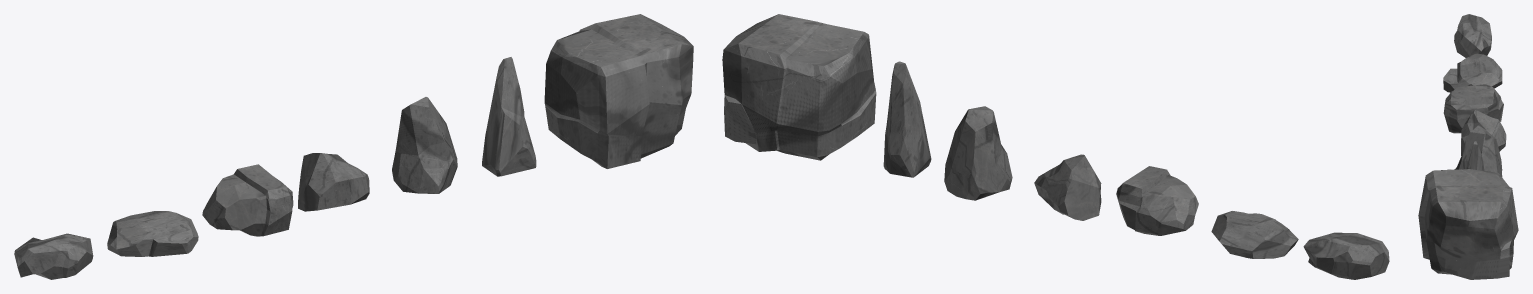
File: Pedras 1.fbx
The picture shows the model from 3 angles, left to right: view 1: azimuth 30°, elevation 25°; view 2: azimuth 150°, elevation 25°; view 3: azimuth 270°, elevation 25°; orthographic projection. The views are drawn at different scales.
Visible parts, largest first — view 1: Pedra_Obstaculo, Pedra.001, Big_Rock.001, Pedra_pontuda, Pedra, Pedra.002, Big_Rock.002; view 2: Pedra_Obstaculo, Pedra.001, Big_Rock.001, Pedra_pontuda, Big_Rock.002, Pedra.002, Pedra; view 3: Pedra_Obstaculo, Big_Rock.001, Pedra, Big_Rock.002, Pedra.001, Pedra.002, Pedra_pontuda.
Boxes of the visible parts, x1=… form: Pedra_Obstaculo: x1=544, y1=14, x2=693, y2=168; Pedra.001: x1=392, y1=97, x2=457, y2=193; Big_Rock.001: x1=202, y1=164, x2=293, y2=236; Pedra_pontuda: x1=482, y1=57, x2=536, y2=176; Pedra: x1=107, y1=211, x2=198, y2=256; Pedra.002: x1=298, y1=153, x2=369, y2=211; Big_Rock.002: x1=14, y1=233, x2=93, y2=279; Pedra_Obstaculo: x1=722, y1=14, x2=876, y2=160; Pedra.001: x1=944, y1=106, x2=1012, y2=200; Big_Rock.001: x1=1116, y1=166, x2=1198, y2=235; Pedra_pontuda: x1=883, y1=61, x2=931, y2=177; Big_Rock.002: x1=1303, y1=232, x2=1389, y2=279; Pedra.002: x1=1034, y1=154, x2=1101, y2=220; Pedra: x1=1211, y1=211, x2=1298, y2=258; Pedra_Obstaculo: x1=1418, y1=168, x2=1518, y2=279; Big_Rock.001: x1=1443, y1=84, x2=1503, y2=133; Pedra: x1=1443, y1=53, x2=1502, y2=92; Big_Rock.002: x1=1454, y1=14, x2=1491, y2=57; Pedra.001: x1=1455, y1=125, x2=1502, y2=177; Pedra.002: x1=1461, y1=110, x2=1506, y2=155; Pedra_pontuda: x1=1466, y1=141, x2=1484, y2=170.
Bounding box in the file's own units: 27536 × 4309 × 4659.
